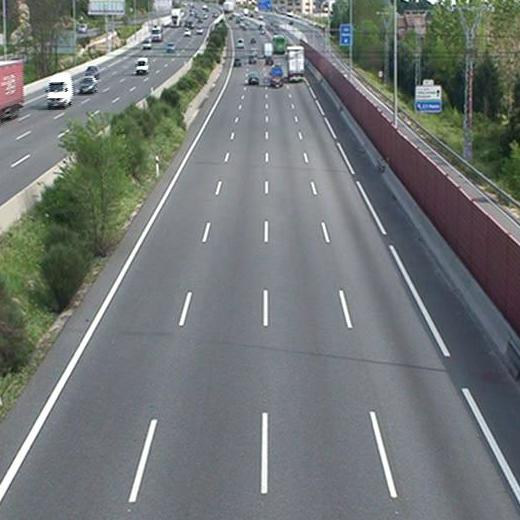bus: (273, 35, 287, 53)
car: (246, 72, 260, 85)
small-truck: (268, 66, 285, 87)
truck: (287, 45, 304, 81)
van: (262, 44, 275, 59)
